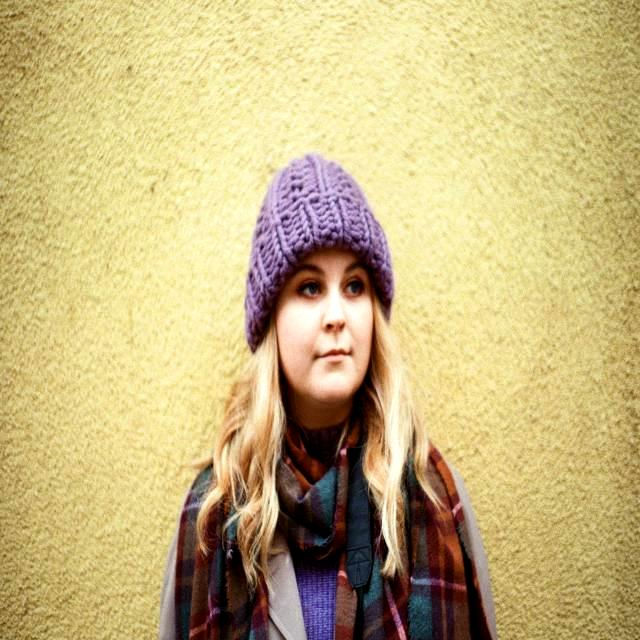no_hard_hat: (245, 154, 394, 350)
person: (160, 154, 497, 640)
